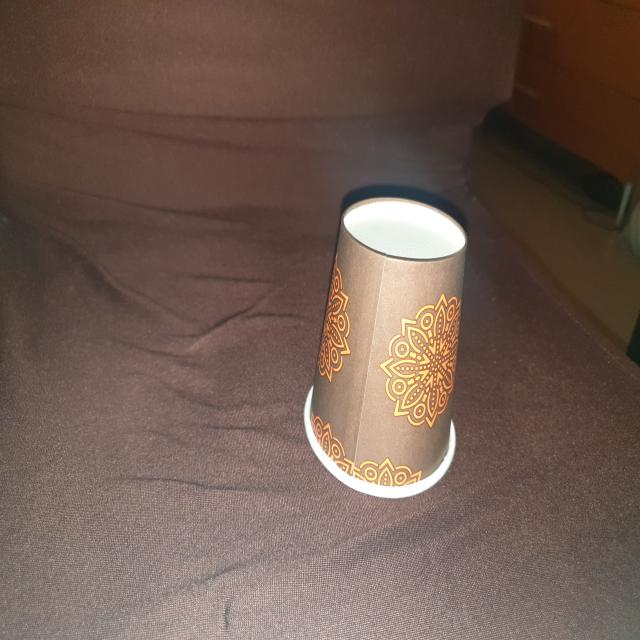cups: (302, 185, 478, 502)
